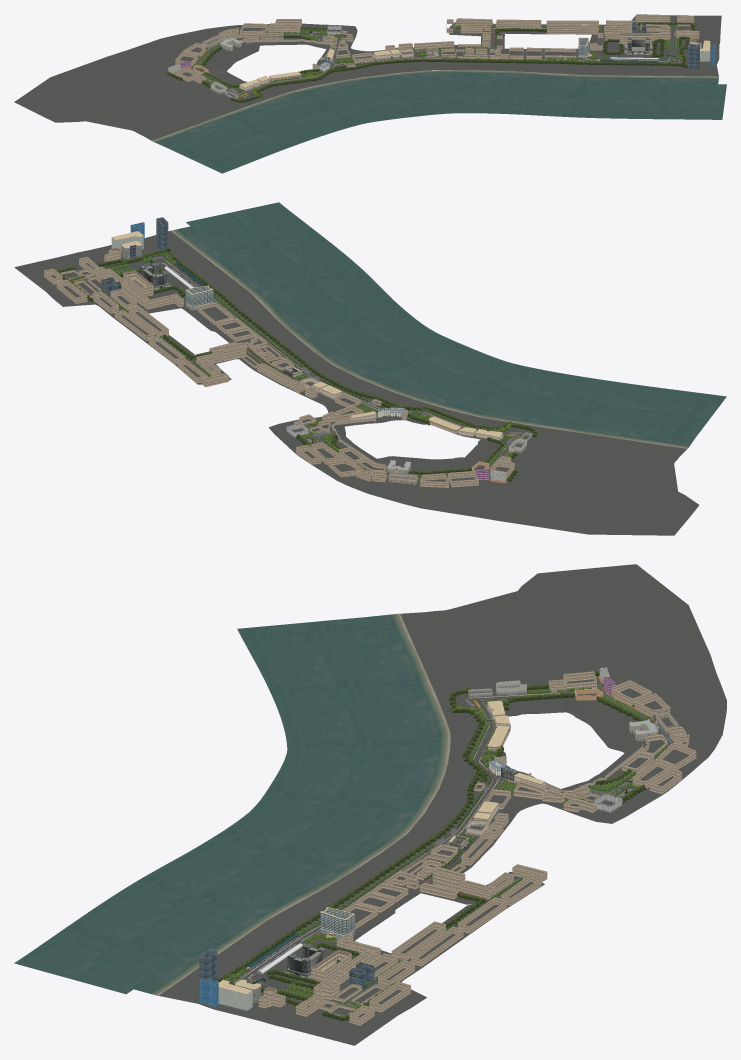
The model's file is baku.glb.
3 views of the same model, one above another, from view 1: azimuth 30°, elevation 25°; view 2: azimuth 150°, elevation 25°; view 3: azimuth 270°, elevation 25° (orthographic). The views are drawn at different scales.
Parts seen in each view (by area): view 1: t_-10_-4, t_-9_-1, t_-3_0, t_-10_-3, t_-5_-1, t_-9_-4, t_-4_-1, t_-9_-5, t_-7_-2, t_-10_-5, t_-6_-2, t_-9_-2 (+46 smaller); view 2: t_-10_-4, t_-9_-1, t_-3_0, t_-10_-3, t_-5_-1, t_-4_-1, t_-9_-5, t_-1_1, t_-6_-2, t_-9_-4, t_-9_-2, t_-9_-3 (+42 smaller); view 3: t_-10_-4, t_-9_-1, t_-3_0, t_-5_-1, t_-4_-1, t_-10_-3, t_-7_-2, t_-6_-2, t_-1_1, t_-9_-5, t_-10_-5, t_-2_1 (+46 smaller).
Part boxes in pixels (x1,y1,x2,y2): t_-10_-4: (14,74,197,122); t_-9_-1: (185,126,278,168); t_-3_0: (496,78,566,116); t_-10_-3: (79,86,207,131); t_-5_-1: (375,79,445,118); t_-9_-4: (43,72,205,121); t_-4_-1: (419,70,488,113); t_-9_-5: (22,56,175,100); t_-7_-2: (266,87,352,135); t_-10_-5: (14,69,168,101); t_-6_-2: (309,78,386,123); t_-9_-2: (144,95,234,140); t_-10_-4: (506,463,699,535); t_-9_-1: (604,384,706,434); t_-3_0: (279,279,403,322); t_-10_-3: (515,455,683,494); t_-5_-1: (355,332,477,381); t_-4_-1: (310,319,441,364); t_-9_-5: (462,478,669,534); t_-1_1: (205,229,338,270); t_-6_-2: (398,355,512,410); t_-9_-4: (497,457,695,515); t_-9_-2: (528,424,686,454); t_-9_-3: (515,439,685,463); t_-10_-4: (521,564,636,684); t_-9_-1: (243,633,394,679); t_-3_0: (157,836,311,902); t_-5_-1: (255,775,405,827); t_-4_-1: (236,801,386,860); t_-10_-3: (444,586,540,685); t_-7_-2: (282,708,450,748); t_-6_-2: (283,740,450,788); t_-1_1: (65,904,213,967); t_-9_-5: (602,566,710,696); t_-10_-5: (614,564,688,685); t_-2_1: (93,877,237,938).
Size of the model in its own units: 3399 by 121 by 2126.
Materials: 217 (217 with a texture image).
